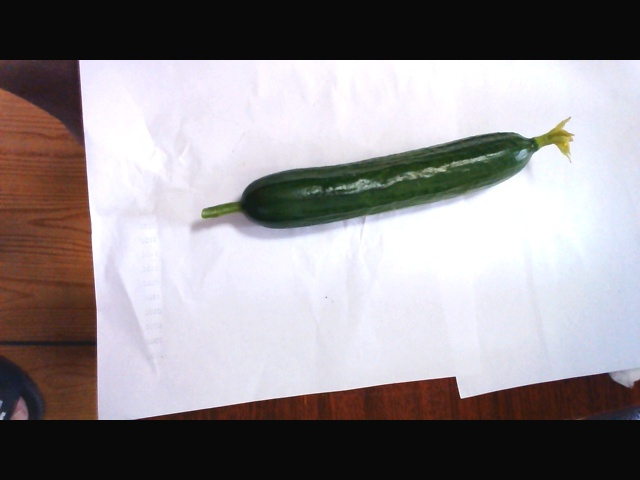cucumber: (197, 121, 580, 234)
